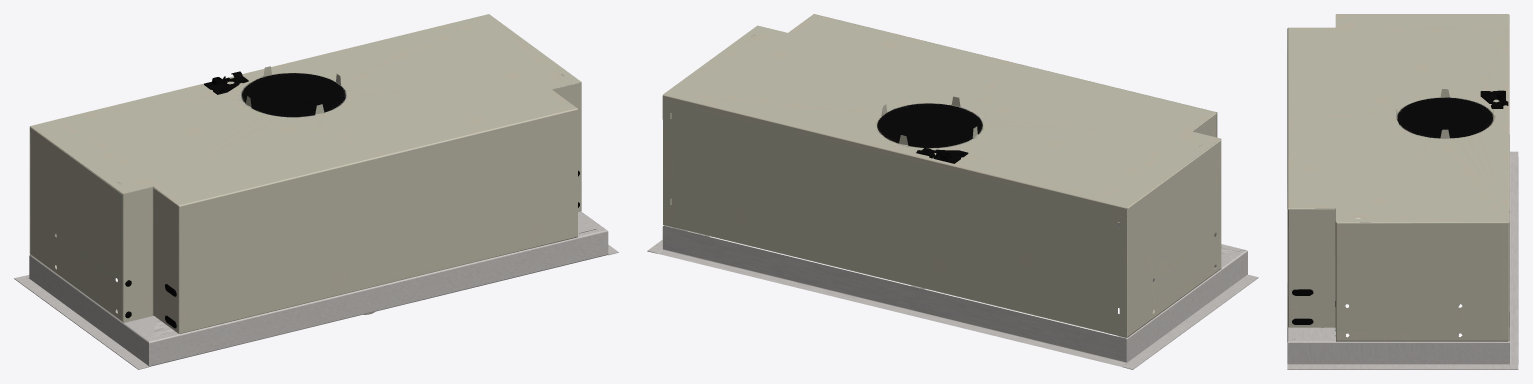
File: underverk_wbudowany_okap_kominowy_10393974.glb
3 renders of one model, left to right at view 1: azimuth 30°, elevation 25°; view 2: azimuth 150°, elevation 25°; view 3: azimuth 270°, elevation 25°, orthographic. The views are drawn at different scales.
Parts seen in each view (by area): view 1: underverk_wbudowany_okap_kominowy_10393974; view 2: underverk_wbudowany_okap_kominowy_10393974; view 3: underverk_wbudowany_okap_kominowy_10393974.
Part boxes in pixels (x1=…): underverk_wbudowany_okap_kominowy_10393974: x1=14, y1=14, x2=618, y2=369; underverk_wbudowany_okap_kominowy_10393974: x1=647, y1=14, x2=1258, y2=369; underverk_wbudowany_okap_kominowy_10393974: x1=1287, y1=14, x2=1518, y2=369.
Bounding box in the file's own units: 0.798 × 0.2744 × 0.3582.
Materials: 2 (2 with a texture image).
